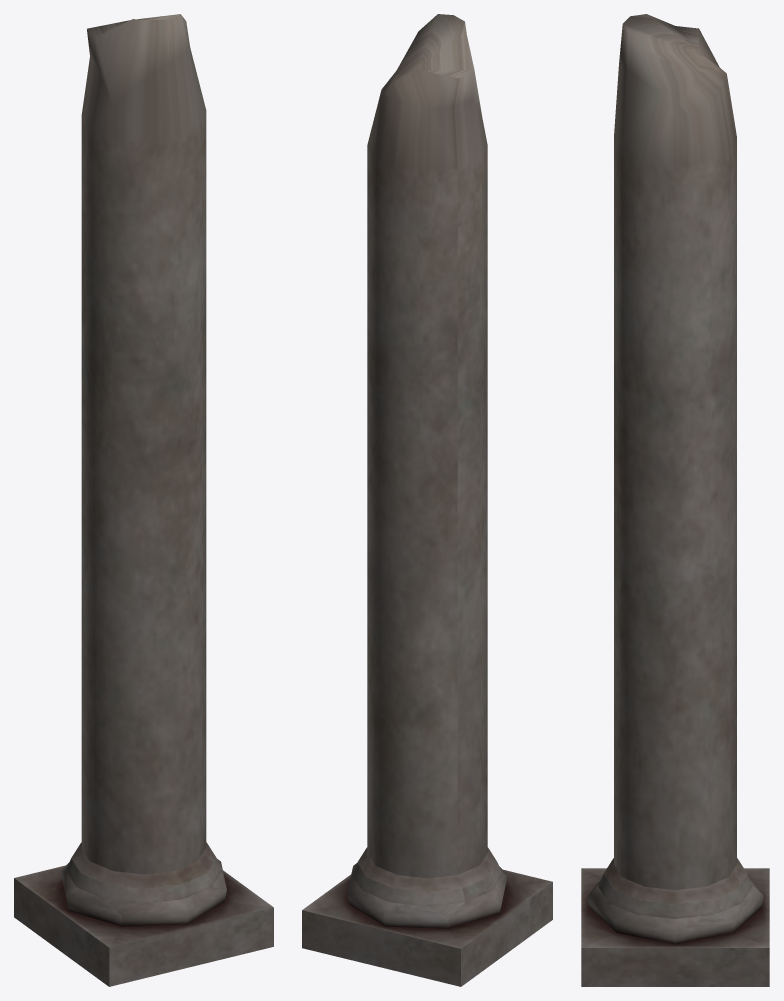
Rendered from sb_obj_outdoor009_AncientTemple_pillar02B_col.fbx.
3 views of the same model, side by side, from view 1: azimuth 30°, elevation 25°; view 2: azimuth 150°, elevation 25°; view 3: azimuth 270°, elevation 25° (orthographic). The views are drawn at different scales.
Parts seen in each view (by area): view 1: sb_obj_outdoor009_AncientTemple_pillar02B_col; view 2: sb_obj_outdoor009_AncientTemple_pillar02B_col; view 3: sb_obj_outdoor009_AncientTemple_pillar02B_col.
Boxes of the visible parts, x1,y1,x2,y2 form: sb_obj_outdoor009_AncientTemple_pillar02B_col: (14,14,273,986); sb_obj_outdoor009_AncientTemple_pillar02B_col: (302,14,552,986); sb_obj_outdoor009_AncientTemple_pillar02B_col: (581,14,769,986).
Bounding box in the file's own units: 1.32 × 7.12 × 1.32.
